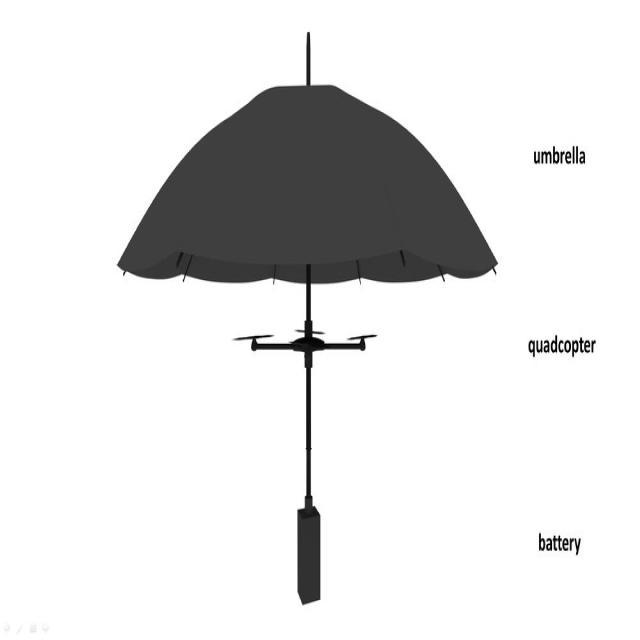drone: (236, 314, 380, 364)
